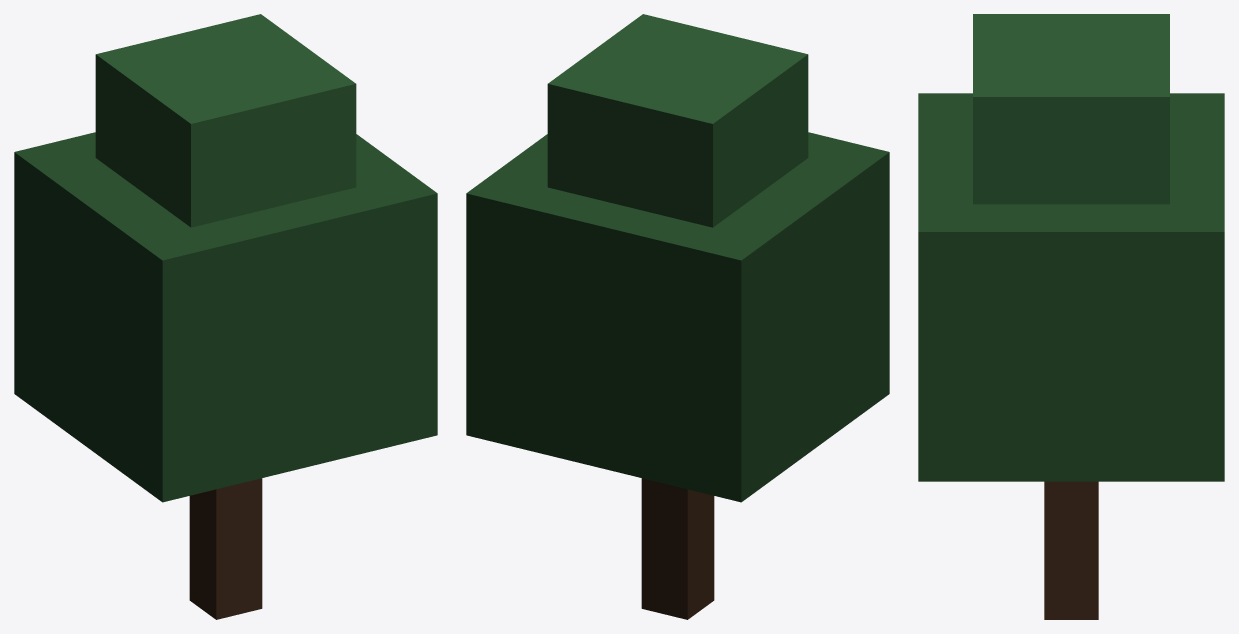
The model's file is tree.glb.
3 renders of one model, left to right at view 1: azimuth 30°, elevation 25°; view 2: azimuth 150°, elevation 25°; view 3: azimuth 270°, elevation 25°, orthographic. The views are drawn at different scales.
Parts seen in each view (by area): view 1: scenery; view 2: scenery; view 3: scenery.
Boxes of the visible parts, box(x1,y1,x2,y2) form: scenery: box(14, 14, 437, 619); scenery: box(466, 14, 889, 619); scenery: box(918, 14, 1224, 619).
Size of what is drawn, in the model's own units: 1.5 by 2.79 by 1.4.
